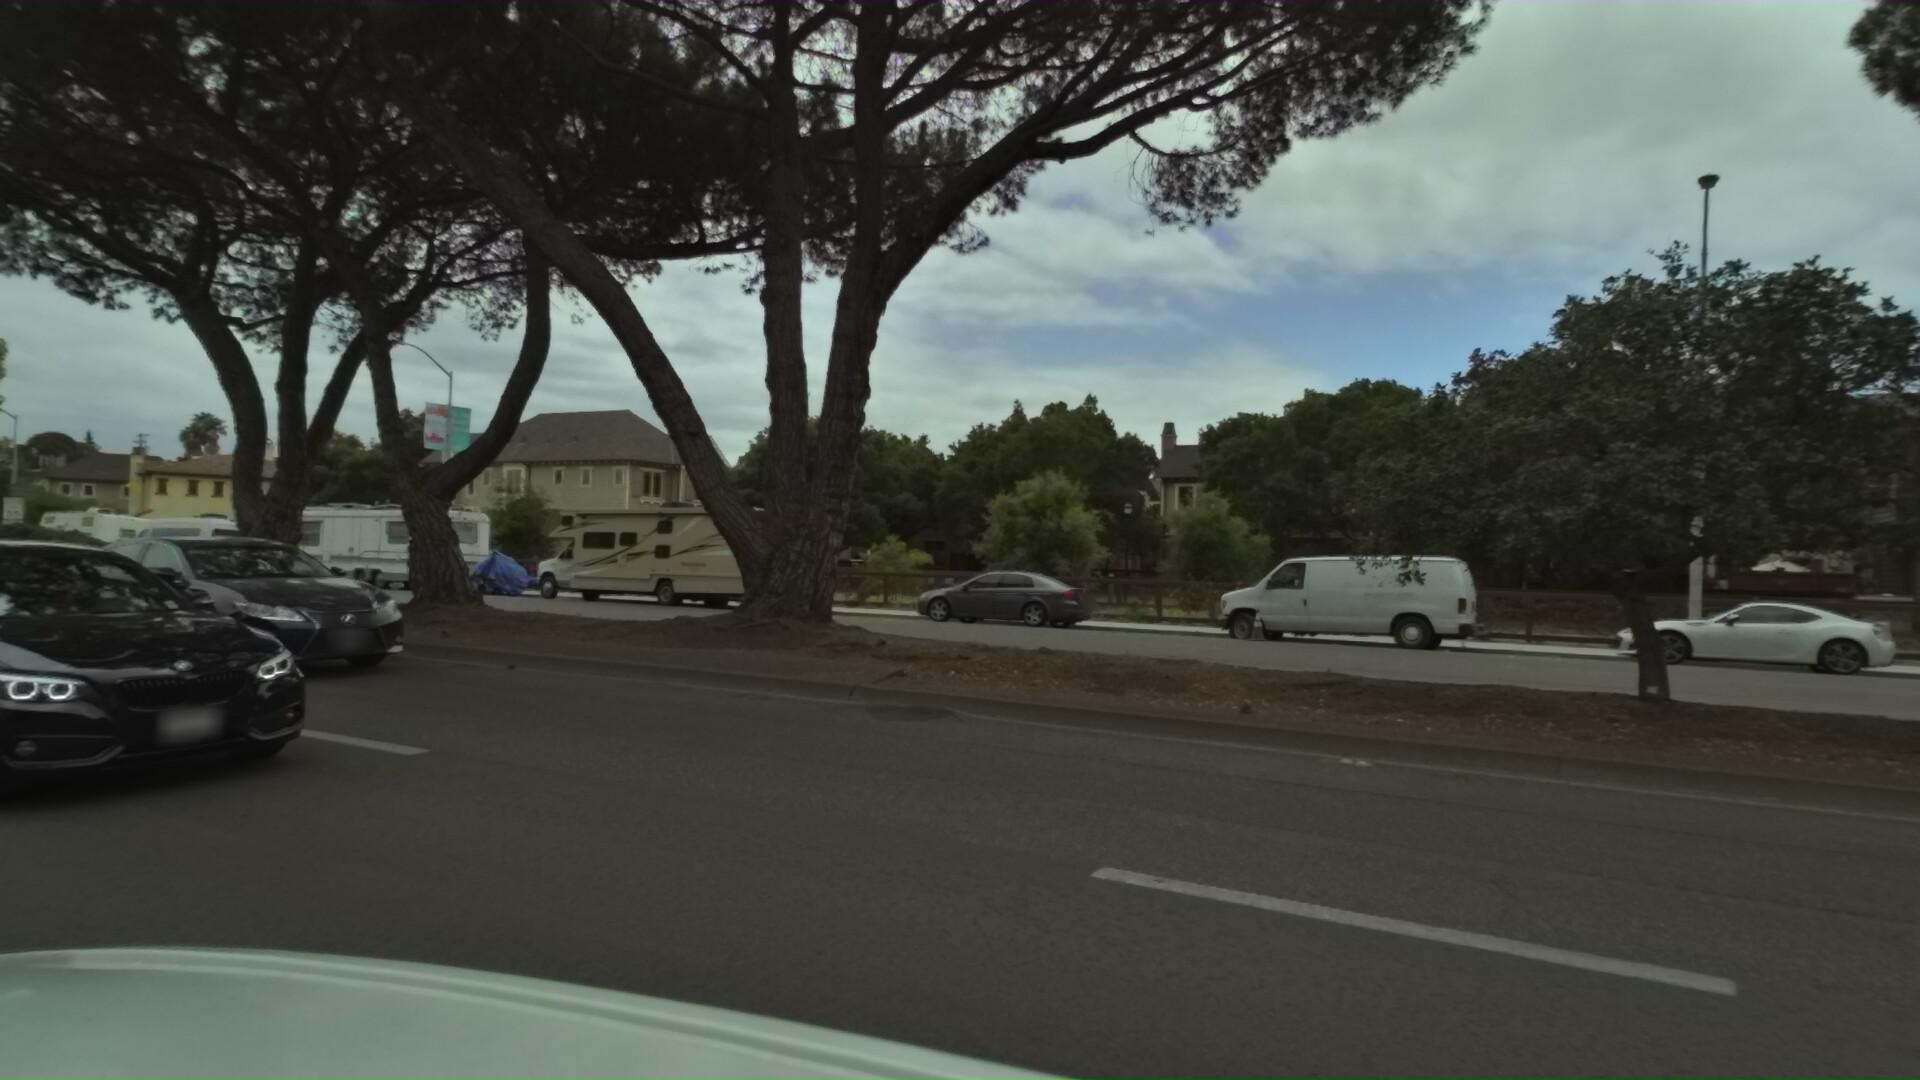car: (0, 491, 368, 831), (26, 487, 443, 688), (1171, 535, 1460, 655), (1564, 583, 1863, 680), (876, 556, 1083, 634), (108, 506, 261, 579)
other_vehicle: (508, 491, 833, 613), (247, 491, 495, 593), (30, 502, 165, 572), (425, 537, 530, 596)
